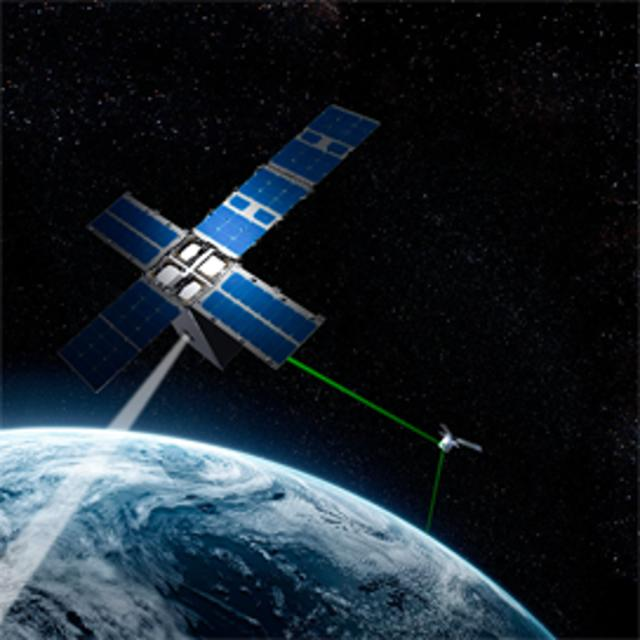medium_debris: (70, 72, 483, 493)
